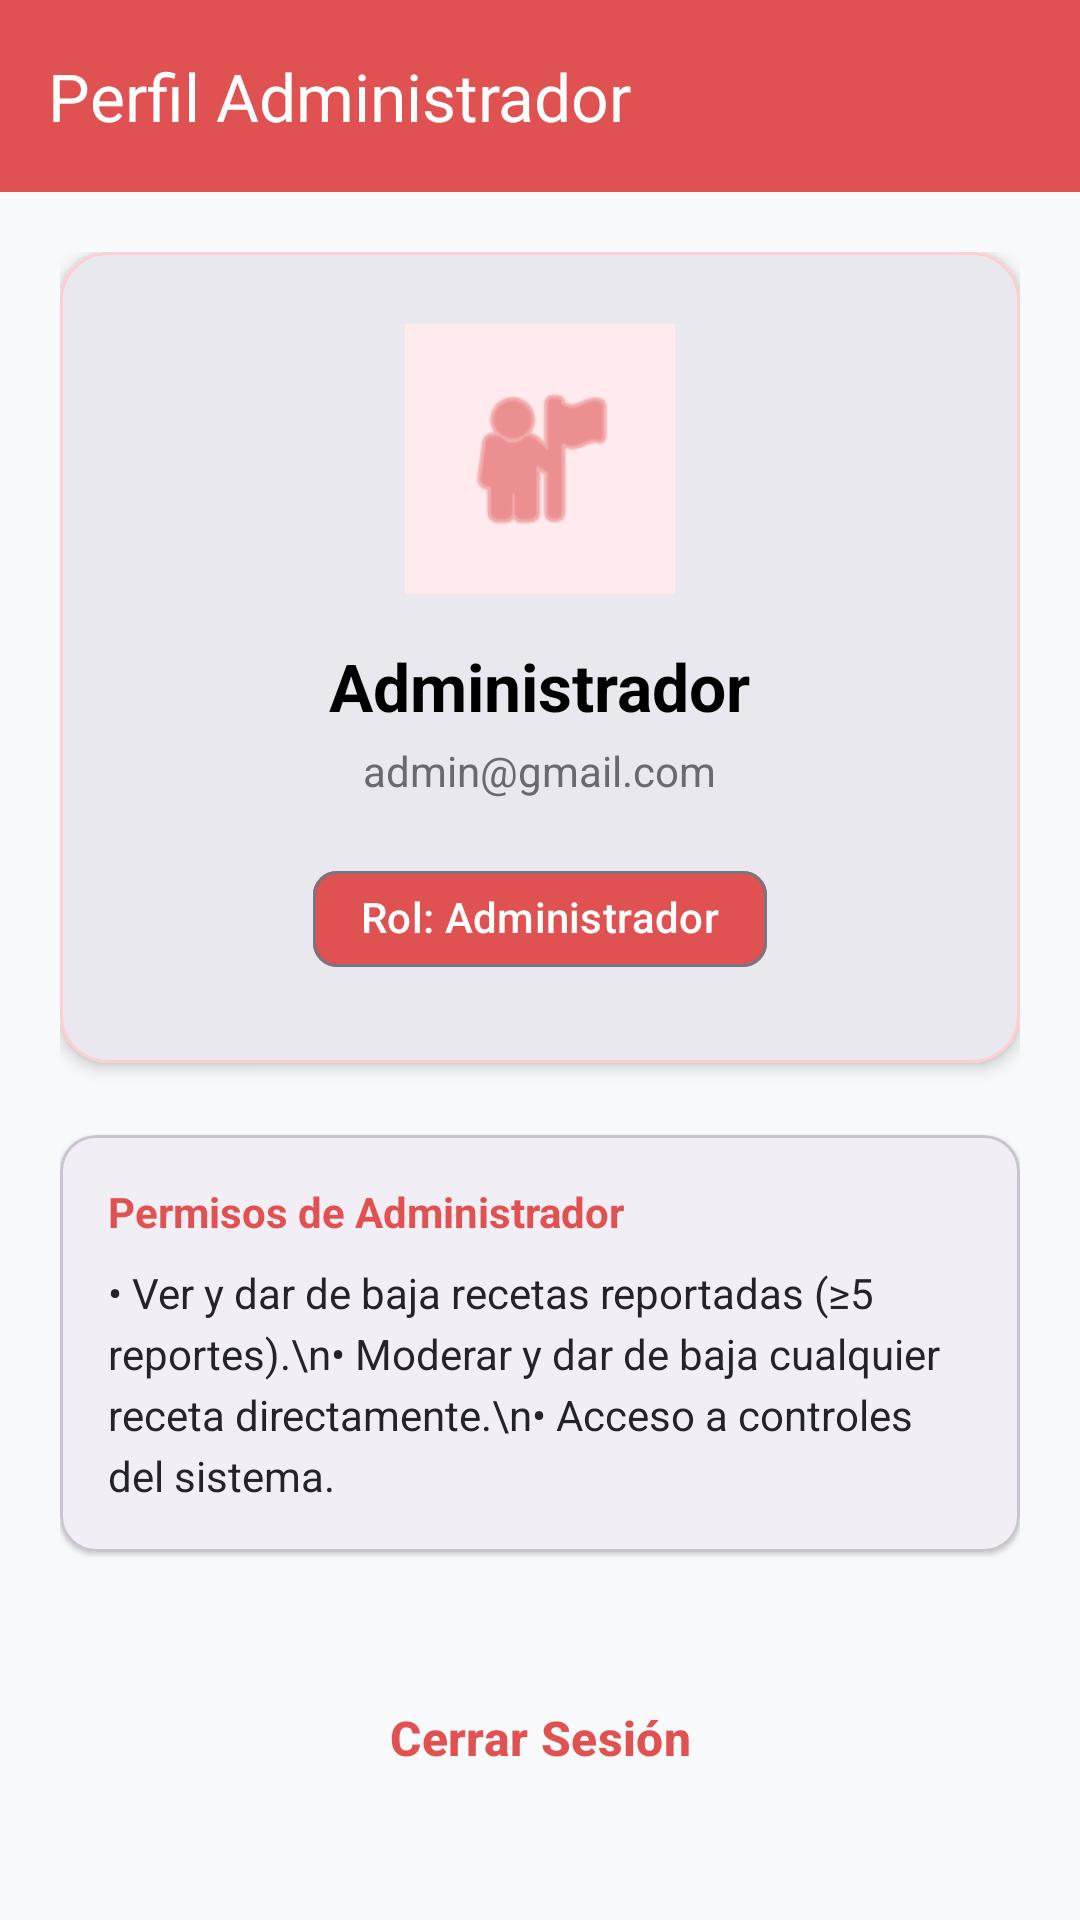

Point at icon controls on the screen. Image size 1080 x 1920, points as point (x, y).
Foto admin: point (542, 459)
